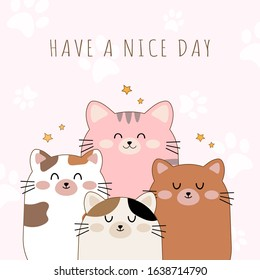cat: (74, 90, 186, 168), (76, 194, 163, 257), (21, 148, 106, 211), (144, 157, 234, 215)
